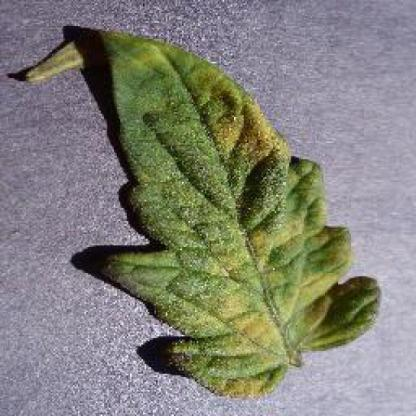Tomato_Leaf_Mold: (25, 29, 387, 400)
